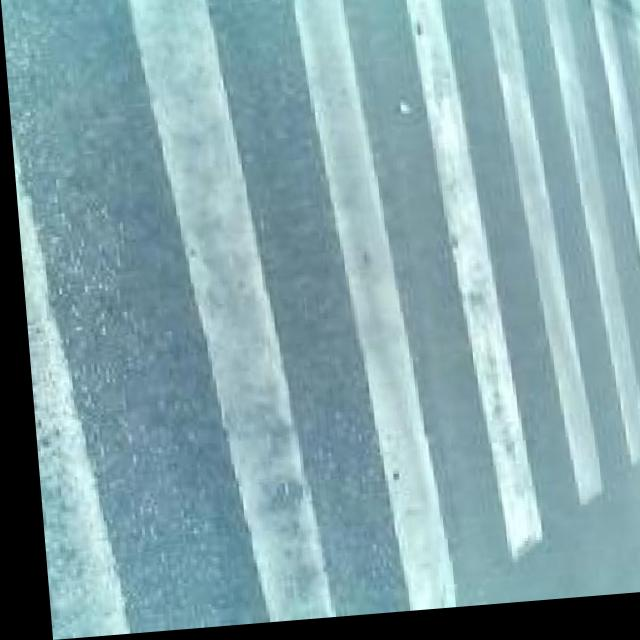zebra: (1, 0, 640, 634)
